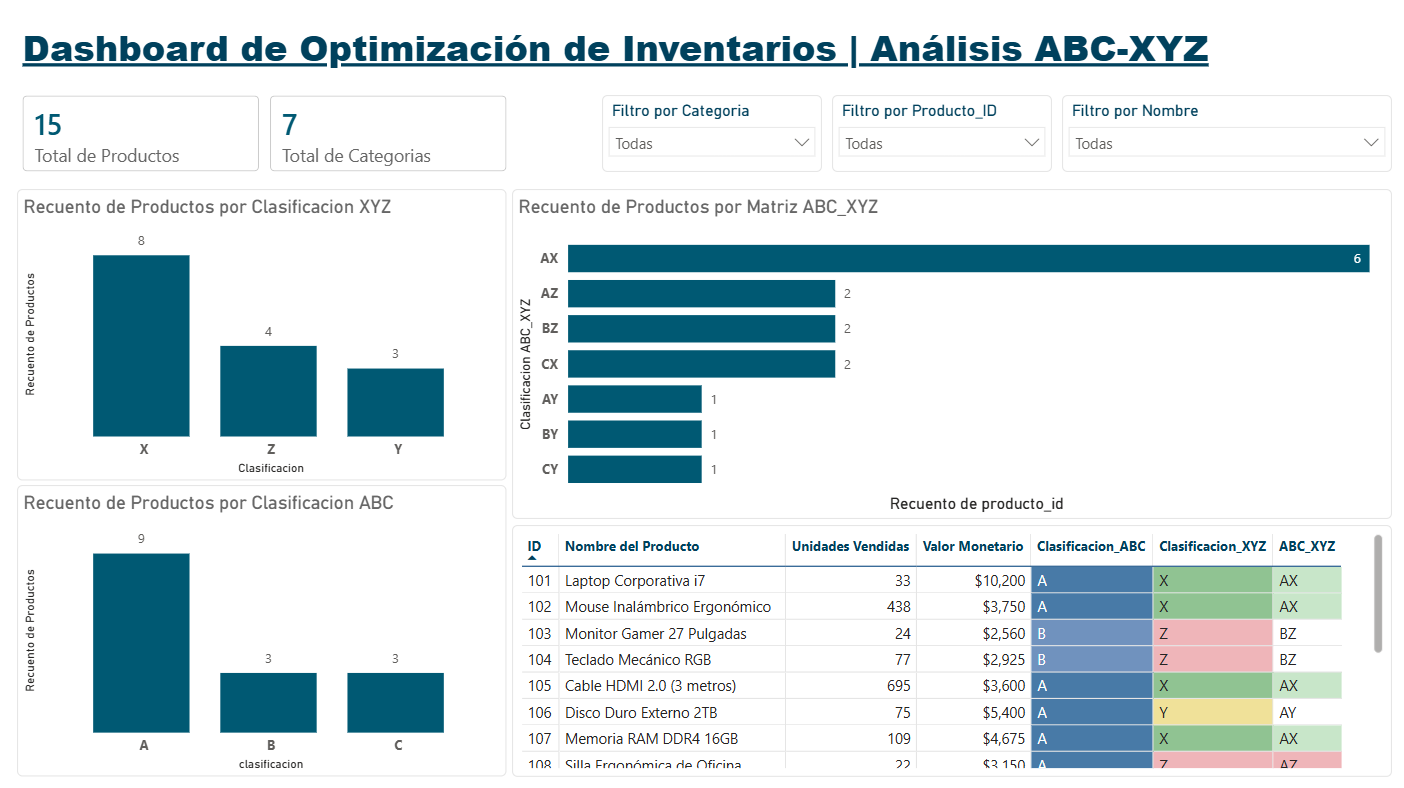

The dashboard page shown, as its layout file describes it:
{"tool":"powerbi","page":{"name":"Matriz Estratégica ABC-XYZ","canvas":[1280,720],"ordinal":0},"visuals":[{"type":"cardVisual","fields":{"Data":["Count(Analisis_XYZ.producto_id)","Count(productos.categoria)"]},"box":[15.1,81.6,450.4,79.8],"z":0},{"type":"clusteredColumnChart","title":"Recuento de Productos por Clasificacion XYZ","fields":{"Category":["Analisis_XYZ.clasificacion_xyz"],"Y":["CountNonNull(Analisis_XYZ.producto_id)"]},"box":[15.1,172,445.1,265],"z":1000},{"type":"clusteredColumnChart","title":"Recuento de Productos por Clasificacion ABC","fields":{"Category":["Analisis_XYZ.clasificacion_abc"],"Y":["CountNonNull(Analisis_XYZ.producto_id)"]},"box":[15.1,440.7,445.1,265.1],"z":2000},{"type":"clusteredBarChart","title":"Recuento de Productos por Matriz ABC_XYZ","fields":{"Category":["Analisis_XYZ.matriz_abc_xyz"],"Y":["Count(Analisis_XYZ.producto_id)"]},"box":[465.5,172,799.8,299.7],"z":3000},{"type":"tableEx","fields":{"Values":["Analisis_XYZ.producto_id","Analisis_XYZ.nombre_producto","Sum(Analisis_XYZ.unidades_vendidas)","Sum(Analisis_XYZ.valor_monetario)","Analisis_XYZ.clasificacion_abc","Analisis_XYZ.clasificacion_xyz","Analisis_XYZ.matriz_abc_xyz"]},"box":[465.5,477,799.8,228.8],"z":4000},{"type":"slicer","fields":{"Values":["Analisis_XYZ.producto_id"]},"box":[756.4,86.8,200.4,70],"z":5000},{"type":"slicer","fields":{"Values":["Analisis_XYZ.nombre_producto"]},"box":[965.6,86.8,299.7,70],"z":6000},{"type":"slicer","fields":{"Values":["productos.categoria"]},"box":[547.1,86.8,200.4,70],"z":7000},{"type":"textbox","box":[15.1,15.1,1109.3,58.5],"z":8000}]}

Visuals, with their boxes in screenshot pixels (x1, y1, x2, y2), scaled from the page's 1280x720 canvas onto the 1404x788 screenshot:
cardVisual - Count(Analisis_XYZ.producto_id) x Count(productos.categoria): Rect(17, 89, 511, 177)
"Recuento de Productos por Clasificacion XYZ" clusteredColumnChart: Rect(17, 188, 505, 478)
"Recuento de Productos por Clasificacion ABC" clusteredColumnChart: Rect(17, 482, 505, 772)
"Recuento de Productos por Matriz ABC_XYZ" clusteredBarChart: Rect(511, 188, 1388, 516)
tableEx - Analisis_XYZ.producto_id x Analisis_XYZ.nombre_producto: Rect(511, 522, 1388, 772)
slicer - Analisis_XYZ.producto_id: Rect(830, 95, 1049, 172)
slicer - Analisis_XYZ.nombre_producto: Rect(1059, 95, 1388, 172)
slicer - productos.categoria: Rect(600, 95, 820, 172)
textbox: Rect(17, 17, 1233, 81)
